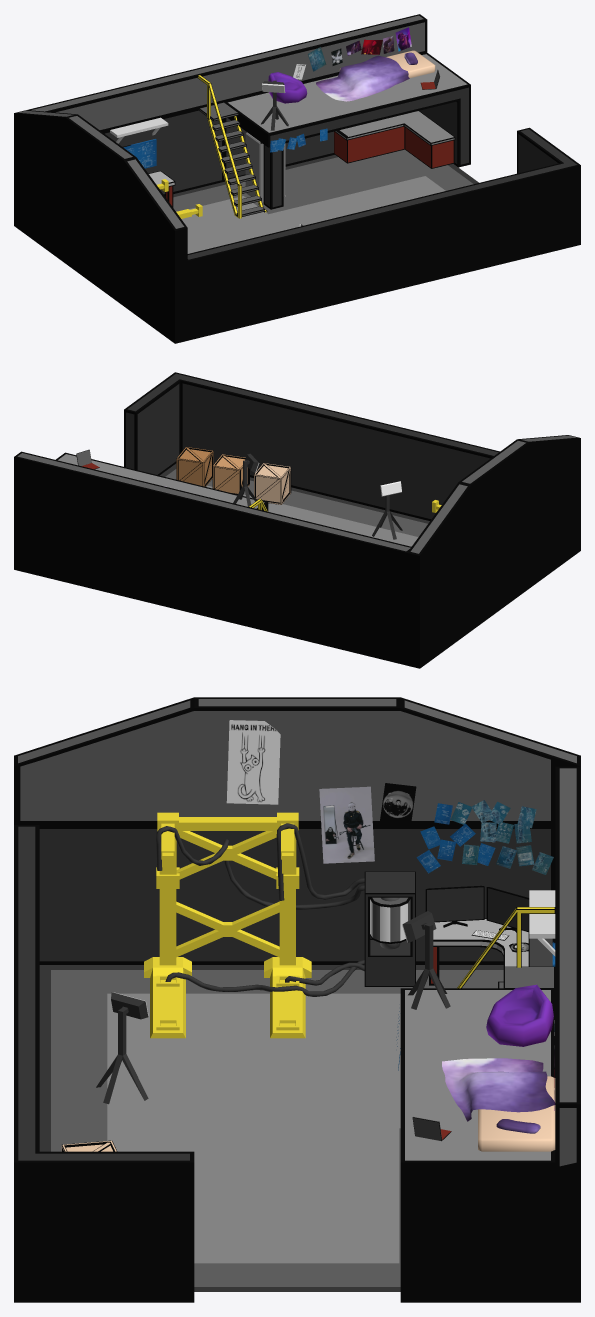
The model's file is Barn.fbx.
3 views of the same model, one above another, from view 1: azimuth 30°, elevation 25°; view 2: azimuth 150°, elevation 25°; view 3: azimuth 270°, elevation 25° (orthographic). The views are drawn at different scales.
Visible parts, largest first — view 1: Cube, Plane, Cube.025, Cube.018, Plane.004, Cube.001, Cube.024, Cube.026, Plane.037, Cube.007, Cube.009; view 2: Cube, Plane, Cube.005, Cube.032, Cube.004; view 3: Cube, Plane, Mach Frame, Plane.004, BézierCurve.005, Plane.007, Cube.003, Plane.005, Cube.014, Cube.026, Plane.037, Cube.002 (+6 smaller).
Boxes of the visible parts, box(x1,y1,x2,y2) form: Cube: box(14, 14, 580, 343); Plane: box(173, 149, 478, 253); Cube.025: box(334, 111, 455, 168); Cube.018: box(197, 75, 267, 218); Plane.004: box(316, 55, 409, 101); Cube.001: box(263, 144, 283, 209); Cube.024: box(245, 132, 285, 202); Cube.026: box(268, 72, 307, 103); Plane.037: box(339, 50, 435, 78); Cube.007: box(123, 139, 156, 168); Cube.009: box(110, 117, 168, 143); Cube: box(14, 372, 580, 668); Plane: box(160, 463, 429, 546); Cube.005: box(254, 463, 291, 504); Cube.032: box(176, 447, 213, 486); Cube.004: box(212, 454, 249, 494); Cube: box(14, 697, 580, 1302); Plane: box(39, 965, 503, 1291); Mach Frame: box(144, 812, 311, 1038); Plane.004: box(442, 1058, 555, 1121); BézierCurve.005: box(156, 823, 364, 996); Plane.007: box(226, 720, 280, 804); Cube.003: box(364, 871, 415, 986); Plane.005: box(319, 786, 374, 863); Cube.014: box(425, 885, 529, 932); Cube.026: box(486, 984, 553, 1046); Plane.037: box(478, 1076, 555, 1151); Cube.002: box(429, 918, 528, 985).
Size of the model in its own units: 22 by 32 by 11.1.
